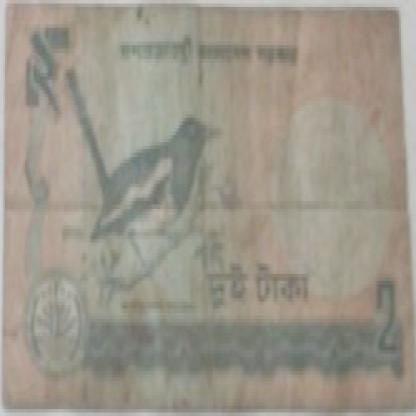two taka: (200, 256, 335, 340), (20, 21, 67, 114)
